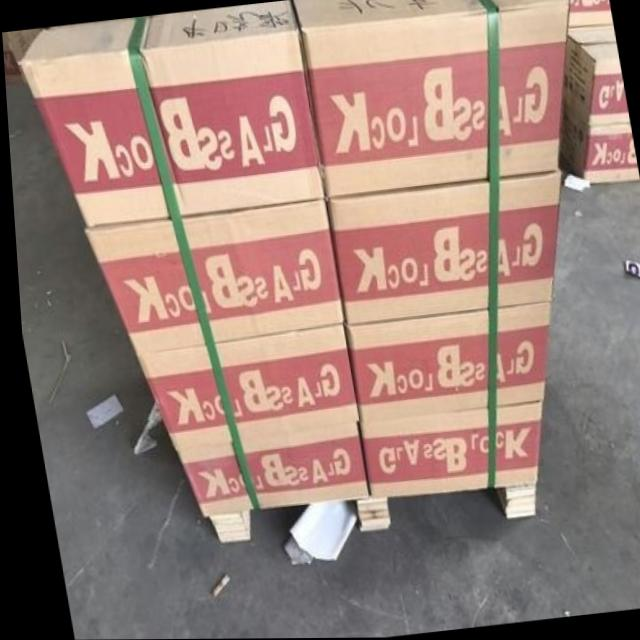box: (19, 0, 322, 228), (289, 0, 570, 198), (79, 198, 339, 356), (323, 172, 558, 324), (130, 324, 354, 452), (339, 306, 547, 421), (168, 422, 361, 516), (354, 406, 536, 501), (562, 24, 628, 127), (558, 104, 637, 184), (2, 30, 38, 85), (568, 0, 612, 27)
